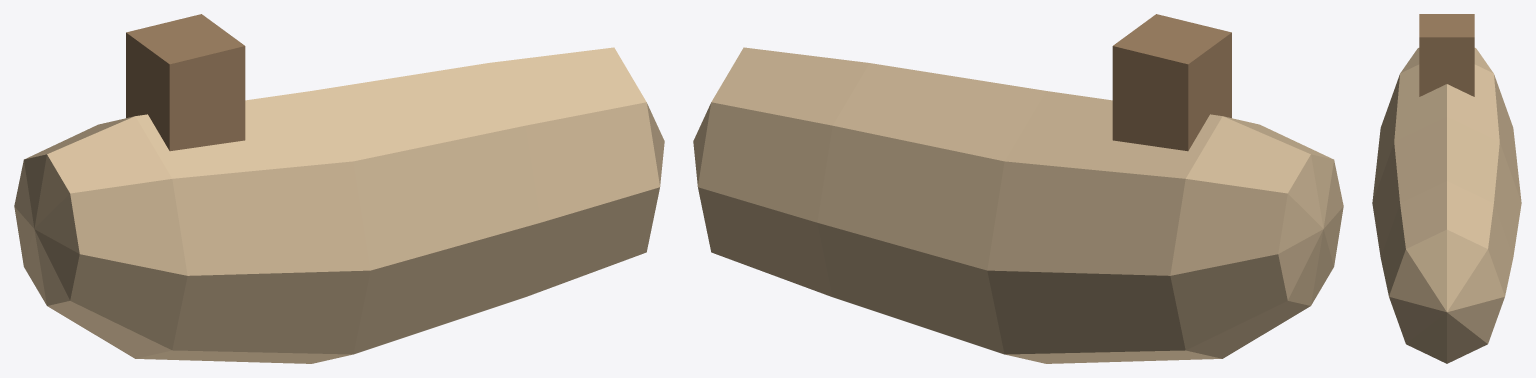
The model's file is prop-shoe-last.fbx.
The picture shows the model from 3 angles, left to right: view 1: azimuth 30°, elevation 25°; view 2: azimuth 150°, elevation 25°; view 3: azimuth 270°, elevation 25°; orthographic projection. The views are drawn at different scales.
Visible parts, largest first — view 1: prop-shoe-last; view 2: prop-shoe-last; view 3: prop-shoe-last.
Part boxes in pixels (x1,y1,x2,y2): prop-shoe-last: (14, 14, 664, 363); prop-shoe-last: (693, 14, 1343, 363); prop-shoe-last: (1372, 14, 1521, 363).
Bounding box in the file's own units: 25 × 13.48 × 8.1.
